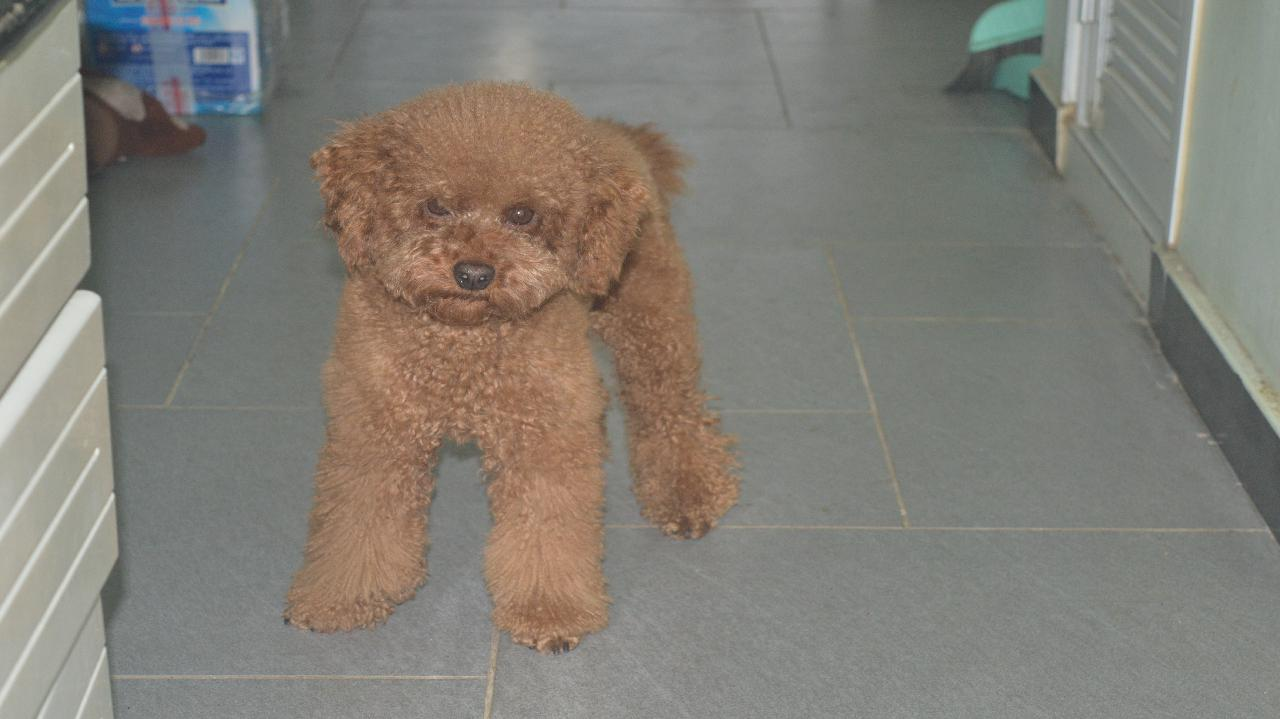zhuangzhuang: (293, 81, 739, 646)
